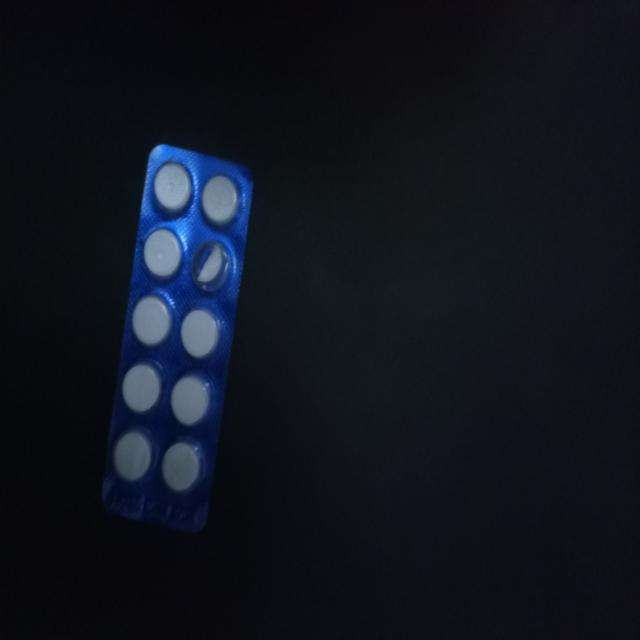defect: (190, 237, 236, 297)
